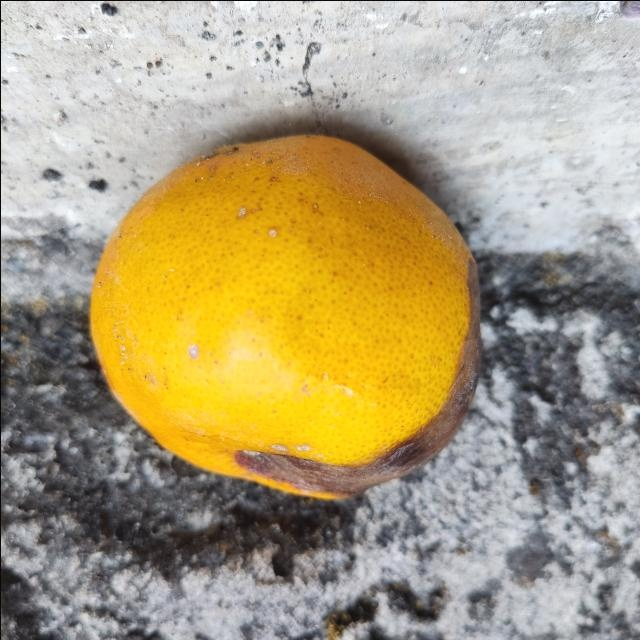agrume: (88, 130, 484, 499)
